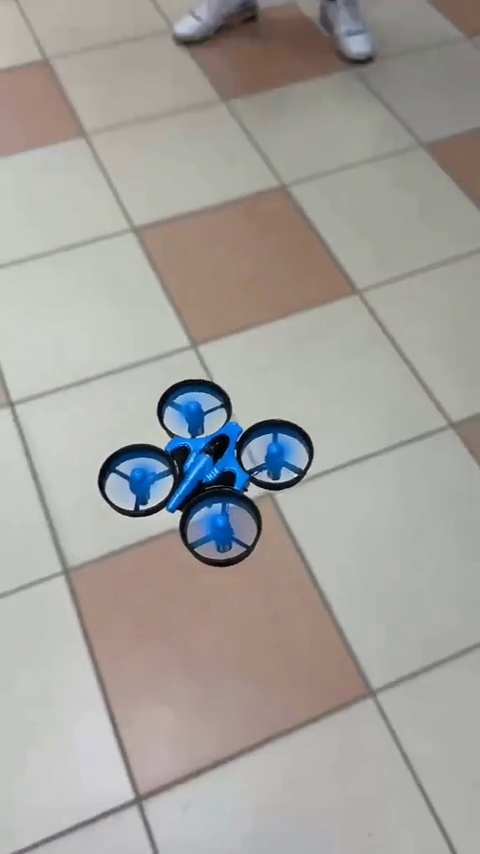drone: (95, 382, 315, 566)
